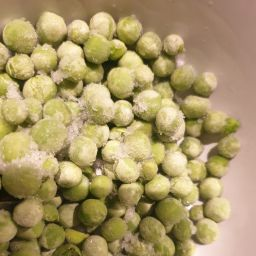Peas: (5, 10, 247, 256), (88, 31, 241, 235), (11, 19, 139, 205), (17, 150, 199, 254)
